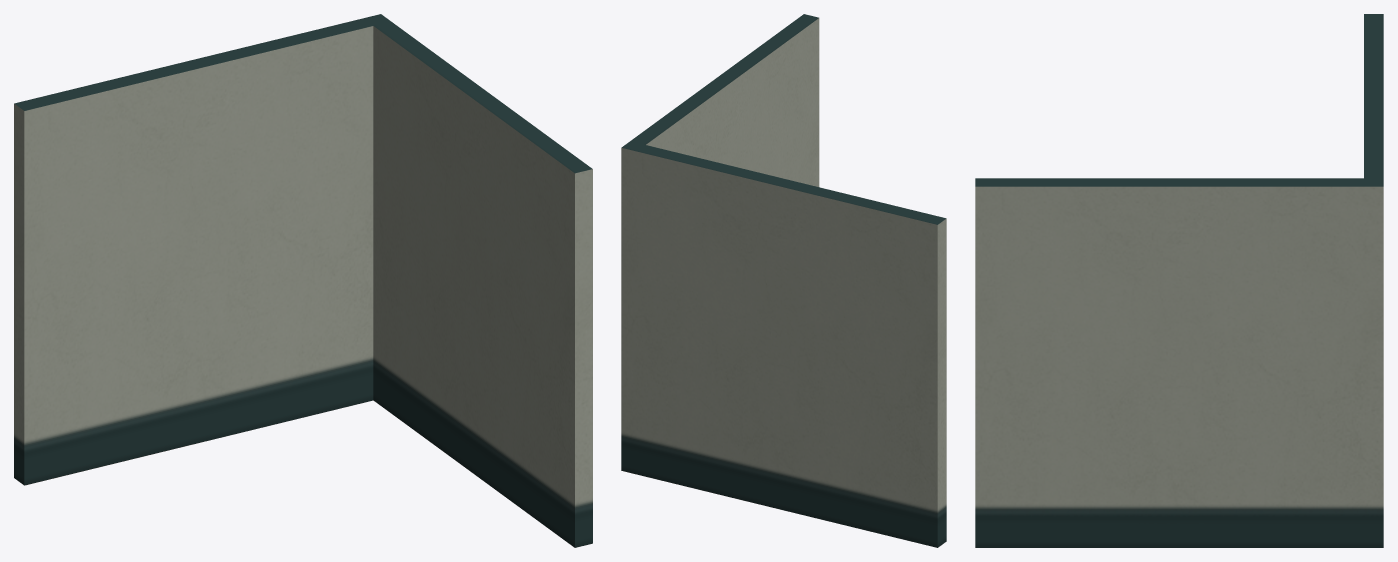
The model's file is Wall_5_Corner_A.fbx.
3 views of the same model, side by side, from view 1: azimuth 30°, elevation 25°; view 2: azimuth 150°, elevation 25°; view 3: azimuth 270°, elevation 25° (orthographic). The views are drawn at different scales.
Parts seen in each view (by area): view 1: polySurface31; view 2: polySurface31; view 3: polySurface31.
Boxes of the visible parts, x1,y1,x2,y2 form: polySurface31: (14,14,592,547); polySurface31: (621,14,946,547); polySurface31: (975,14,1383,547).
Bounding box in the file's own units: 4.1 × 4 × 4.1.
